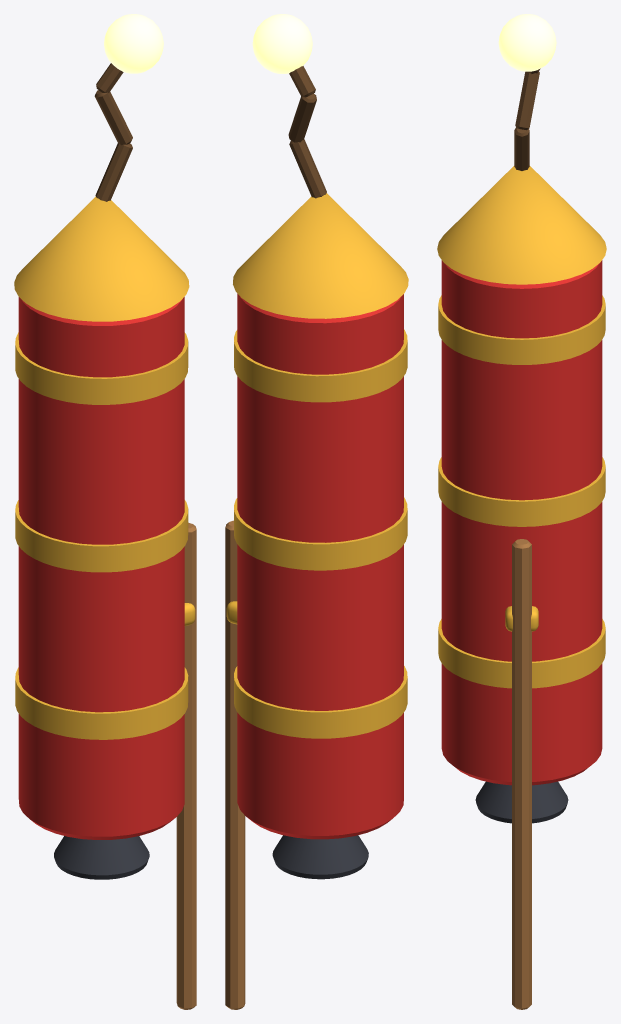
The model's file is Rocket_01_Firecracker.fbx.
3 renders of one model, left to right at view 1: azimuth 30°, elevation 25°; view 2: azimuth 150°, elevation 25°; view 3: azimuth 270°, elevation 25°, orthographic. The views are drawn at different scales.
Parts seen in each view (by area): view 1: R01_Body, R01_Cap, R01_Stick, R01_Band_2, R01_Band, R01_Band_3, R01_Nozzle, R01_Spark, R01_Fuse, R01_Fuse_2, R01_Fuse_3; view 2: R01_Body, R01_Cap, R01_Stick, R01_Band_2, R01_Band_3, R01_Band, R01_Nozzle, R01_Spark, R01_Fuse, R01_Fuse_2, R01_Fuse_3; view 3: R01_Body, R01_Cap, R01_Stick, R01_Band_2, R01_Band_3, R01_Band, R01_Spark, R01_Nozzle, R01_Fuse_2, R01_Fuse.
Part boxes in pixels (x1=…): R01_Body: x1=18, y1=297, x2=184, y2=839; R01_Cap: x1=14, y1=196, x2=189, y2=321; R01_Stick: x1=176, y1=522, x2=196, y2=1009; R01_Band_2: x1=15, y1=500, x2=188, y2=572; R01_Band: x1=15, y1=667, x2=188, y2=739; R01_Band_3: x1=15, y1=332, x2=188, y2=404; R01_Nozzle: x1=54, y1=836, x2=149, y2=879; R01_Spark: x1=104, y1=14, x2=163, y2=73; R01_Fuse: x1=95, y1=143, x2=132, y2=201; R01_Fuse_2: x1=94, y1=90, x2=132, y2=145; R01_Fuse_3: x1=96, y1=63, x2=123, y2=92; R01_Body: x1=237, y1=293, x2=403, y2=839; R01_Cap: x1=233, y1=193, x2=408, y2=318; R01_Stick: x1=225, y1=520, x2=245, y2=1009; R01_Band_2: x1=234, y1=497, x2=407, y2=570; R01_Band_3: x1=234, y1=329, x2=407, y2=402; R01_Band: x1=234, y1=666, x2=407, y2=738; R01_Nozzle: x1=272, y1=835, x2=368, y2=879; R01_Spark: x1=252, y1=14, x2=312, y2=73; R01_Fuse: x1=289, y1=139, x2=326, y2=198; R01_Fuse_2: x1=288, y1=93, x2=316, y2=142; R01_Fuse_3: x1=289, y1=66, x2=315, y2=97; R01_Body: x1=441, y1=260, x2=602, y2=785; R01_Cap: x1=437, y1=166, x2=606, y2=284; R01_Stick: x1=512, y1=539, x2=531, y2=1009; R01_Band_2: x1=438, y1=457, x2=605, y2=526; R01_Band_3: x1=438, y1=295, x2=605, y2=364; R01_Band: x1=438, y1=619, x2=605, y2=688; R01_Spark: x1=498, y1=14, x2=556, y2=71; R01_Nozzle: x1=475, y1=781, x2=568, y2=823; R01_Fuse_2: x1=515, y1=71, x2=539, y2=130; R01_Fuse: x1=514, y1=127, x2=529, y2=170.
Bounding box in the file's own units: 1.7 × 9.56 × 1.52.
